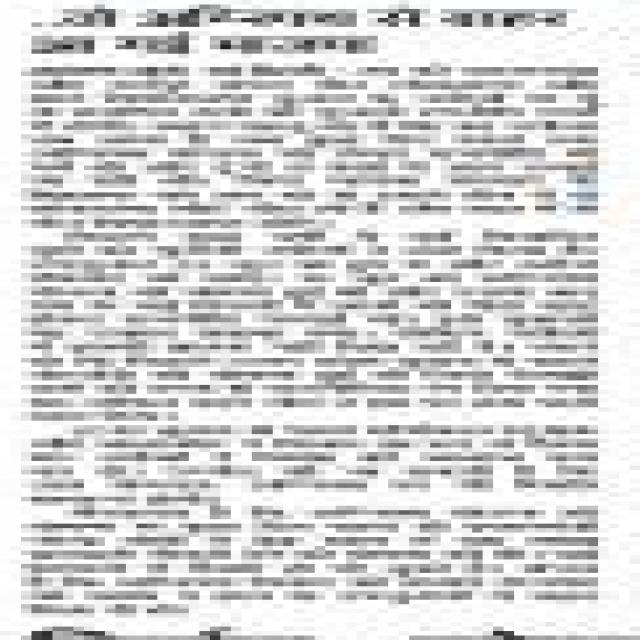paper: (10, 4, 640, 640)
